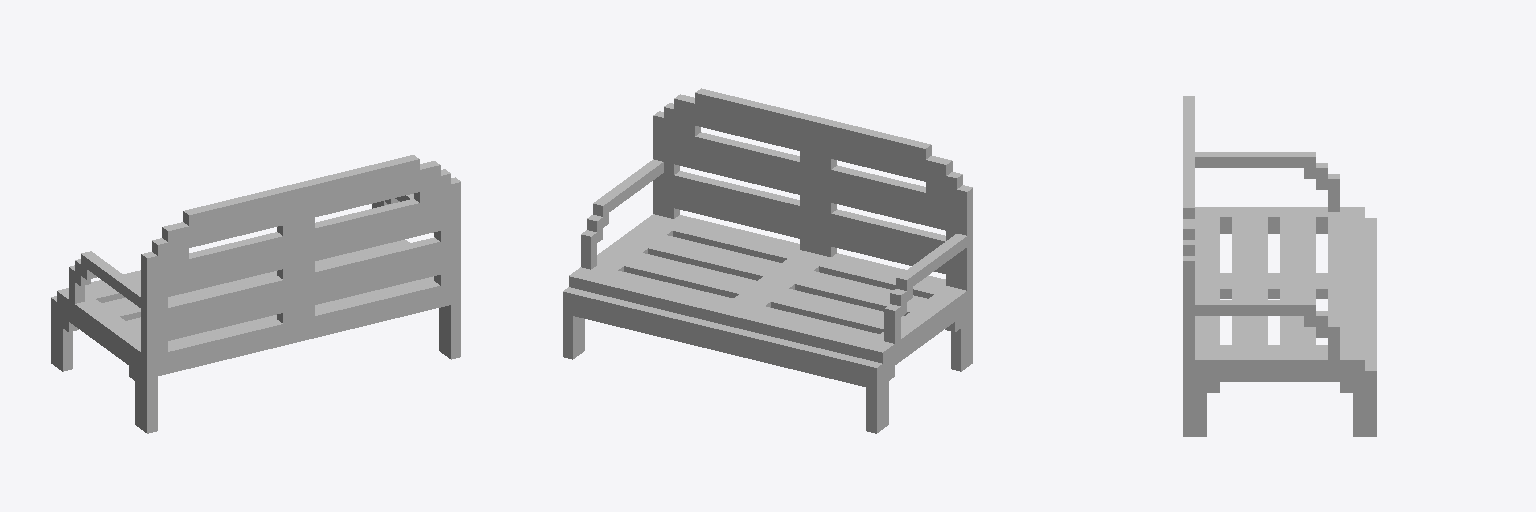
The model's file is Bench.obj.
The picture shows the model from 3 angles: view 1: azimuth 30°, elevation 25°; view 2: azimuth 150°, elevation 25°; view 3: azimuth 270°, elevation 25°; orthographic projection.
Parts seen in each view (by area): view 1: object 1; view 2: object 1; view 3: object 1.
Boxes of the visible parts, box(x1,y1,x2,y2) form: object 1: box(51, 155, 460, 433); object 1: box(563, 88, 972, 433); object 1: box(1183, 96, 1376, 436).
Size of the model in its own units: 3 by 1.9 by 1.6.